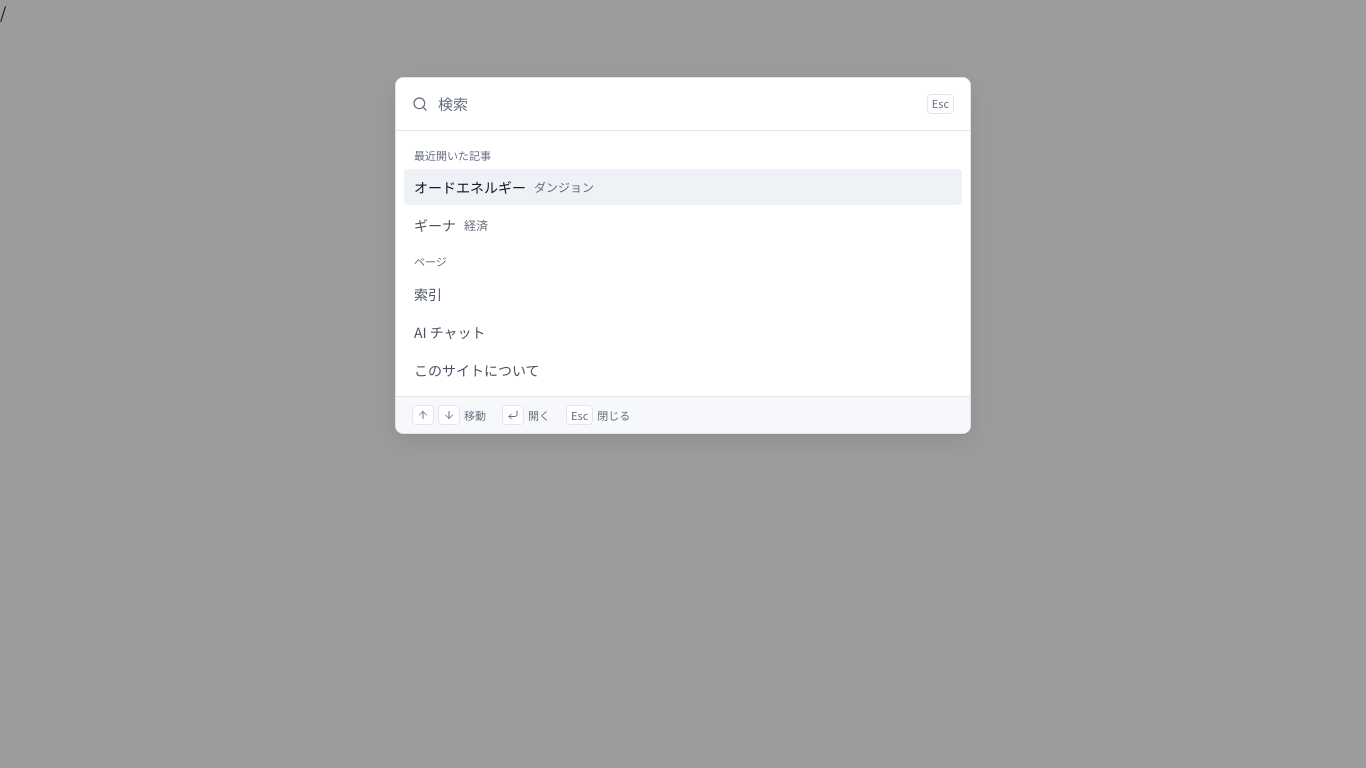
Test: CommandPalette › navigates when an option is clicked
Click the option "ギーナ 経済".
click(451, 225)  # box [414,215,488,235]
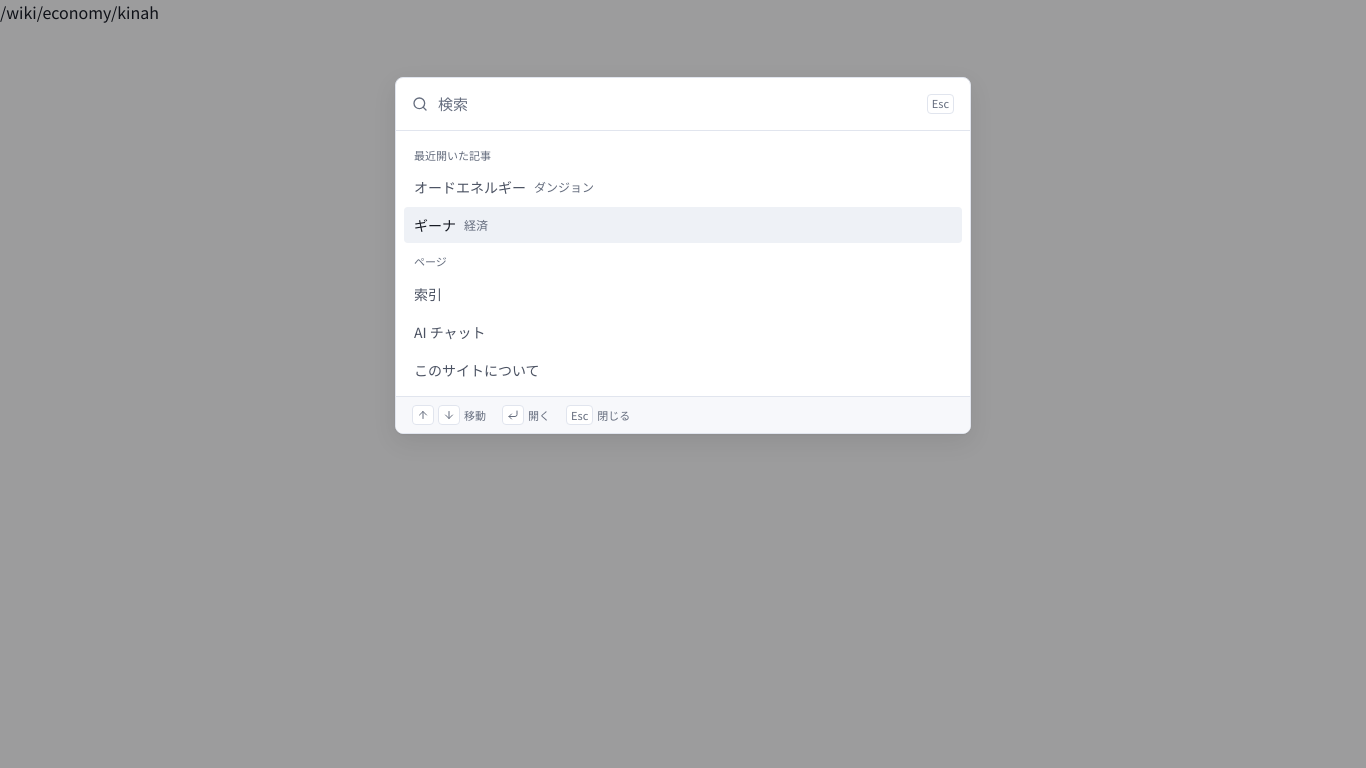
Now the text with test id "location" reads "/wiki/economy/kinah", box [0,0,159,24]
